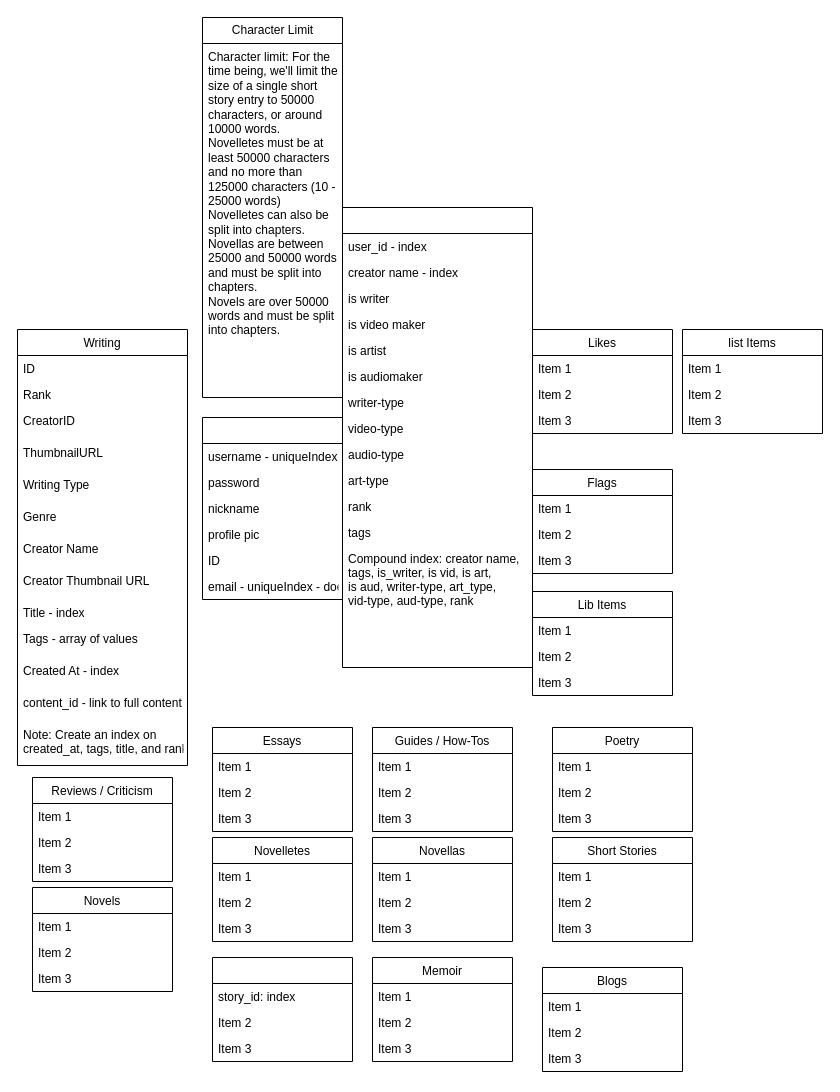
Some shapes in this 840 by 1092 pixel diagram are drawn without their labels. Each missing label, with the box of its shape:
Chapters: (212, 956, 352, 1062)
Creators: (342, 206, 532, 668)
Users: (202, 416, 342, 600)
